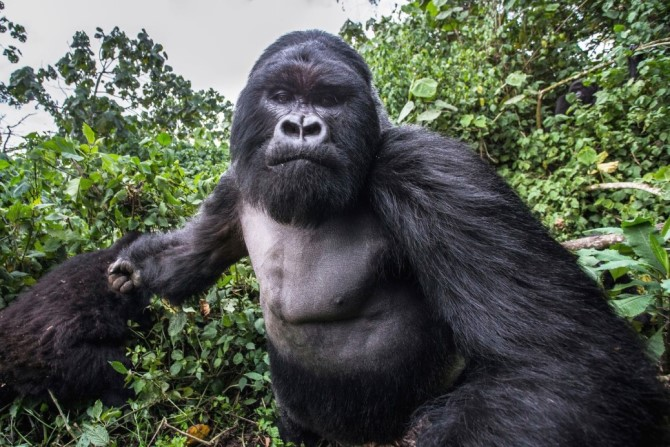Gorilla: (192, 46, 600, 438), (14, 237, 151, 389)
